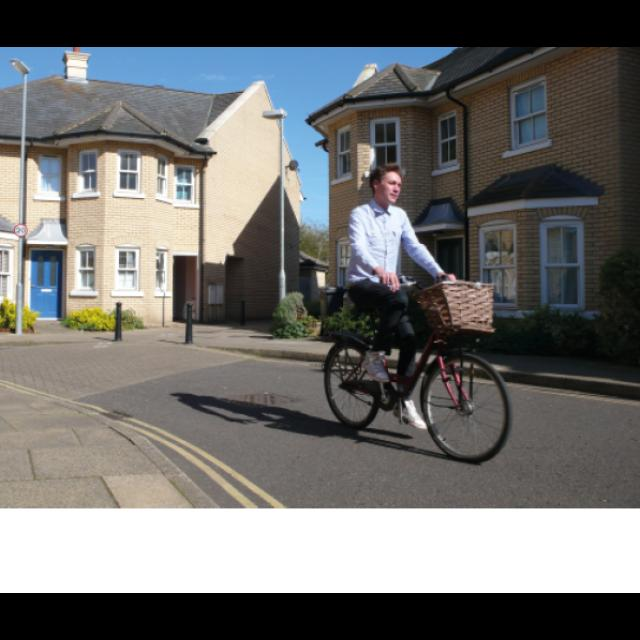Without Helmet: (365, 162, 405, 206)
